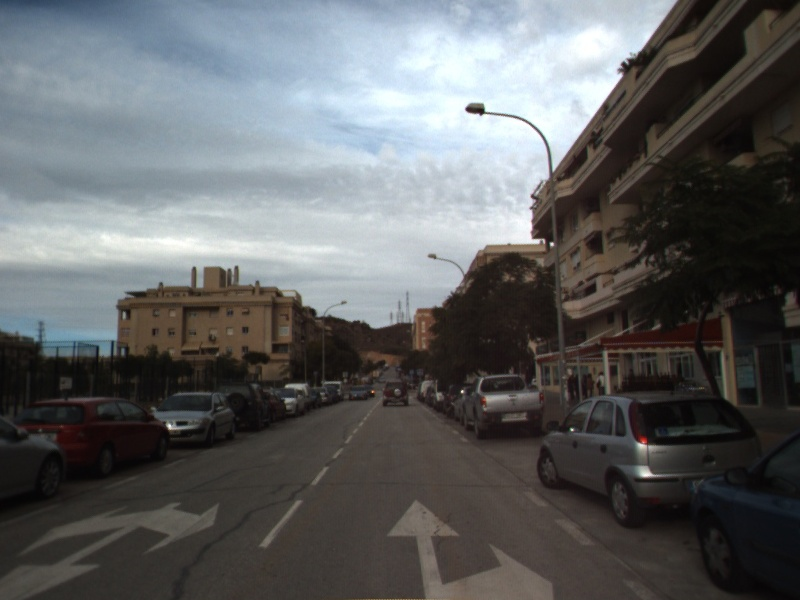STRAIGHT_RIGHT: (384, 497, 557, 600)
